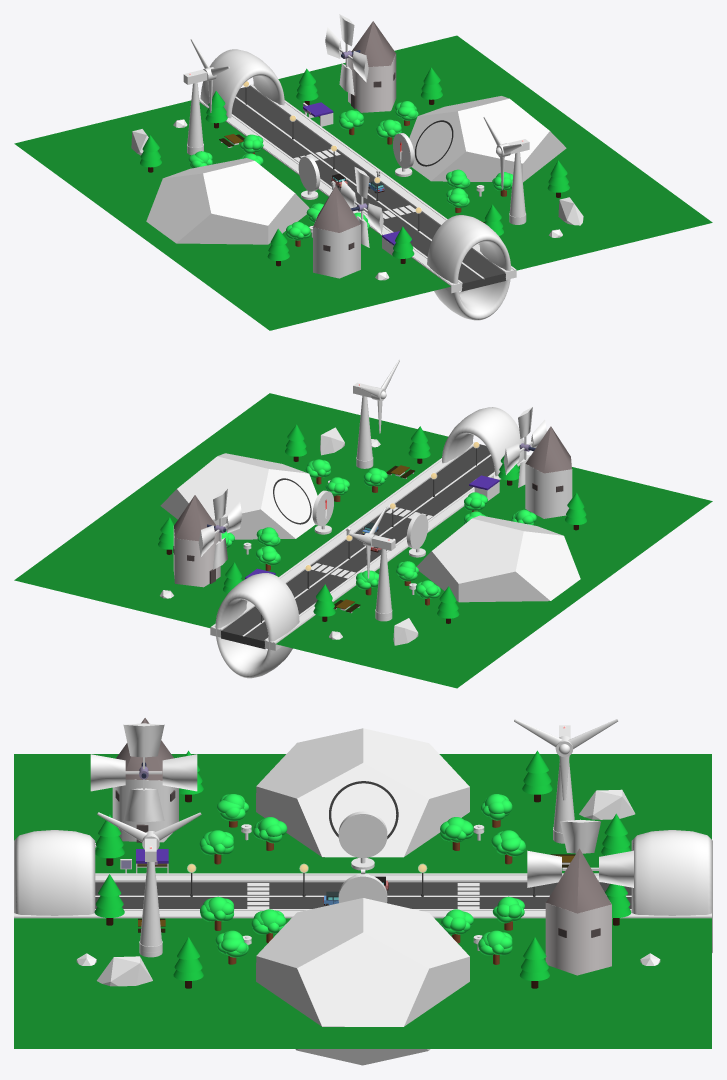
3 renders of one model, top to bottom at view 1: azimuth 30°, elevation 25°; view 2: azimuth 150°, elevation 25°; view 3: azimuth 270°, elevation 25°, orthographic. The views are drawn at different scales.
Visible parts, largest first — view 1: Plane, Dodecahedron_1, Dodecahedron, Route, Torus_1, Torus_2, Cylinder_53, Cylinder_61, Cylinder_52, Trottoir_D, Cylinder_60, Trottoir_G (+7 smaller); view 2: Plane, Dodecahedron_1, Dodecahedron, Route, Torus_2, Torus_1, Cylinder_53, Cylinder_61, Cylinder_52, Trottoir_G, Trottoir_D, Cylinder_60 (+4 smaller); view 3: Plane, Dodecahedron, Dodecahedron_1, Route, Torus_1, Torus_2, Cylinder_61, Icosahedron (×2), Cylinder_60, Cylinder_53, Trottoir_D, Wind_speed (+16 smaller).
Boxes of the visible parts, x1,y1,x2,y2 form: Plane: (14,35,712,330); Dodecahedron_1: (146,158,309,244); Dodecahedron: (409,96,566,182); Route: (232,86,505,291); Torus_1: (427,215,510,320); Torus_2: (200,49,284,118); Cylinder_53: (313,221,360,278); Cylinder_61: (348,53,396,112); Cylinder_52: (313,185,360,232); Trottoir_D: (252,84,516,279); Cylinder_60: (351,21,395,66); Trottoir_G: (199,97,462,293); Plane: (14,393,712,688); Dodecahedron_1: (416,515,580,602); Dodecahedron: (160,453,317,539); Route: (221,444,494,648); Torus_2: (215,573,299,678); Torus_1: (442,407,524,476); Cylinder_53: (525,458,572,518); Cylinder_61: (173,526,220,587); Cylinder_52: (525,426,571,473); Trottoir_G: (264,455,527,650); Trottoir_D: (210,442,474,637); Cylinder_60: (174,495,218,541); Plane: (14,754,711,1048); Dodecahedron: (256,898,469,1065); Dodecahedron_1: (256,728,469,857); Route: (95,882,631,908); Torus_1: (14,830,95,915); Torus_2: (631,830,712,952); Cylinder_61: (545,902,611,975); Icosahedron (×2): (97,789,635,986); Cylinder_60: (546,848,611,913); Cylinder_53: (112,779,178,842); Trottoir_D: (14,911,711,918); Wind_speed: (339,815,386,856).
Bounding box in the file's own units: 60 × 18.66 × 60.09.
